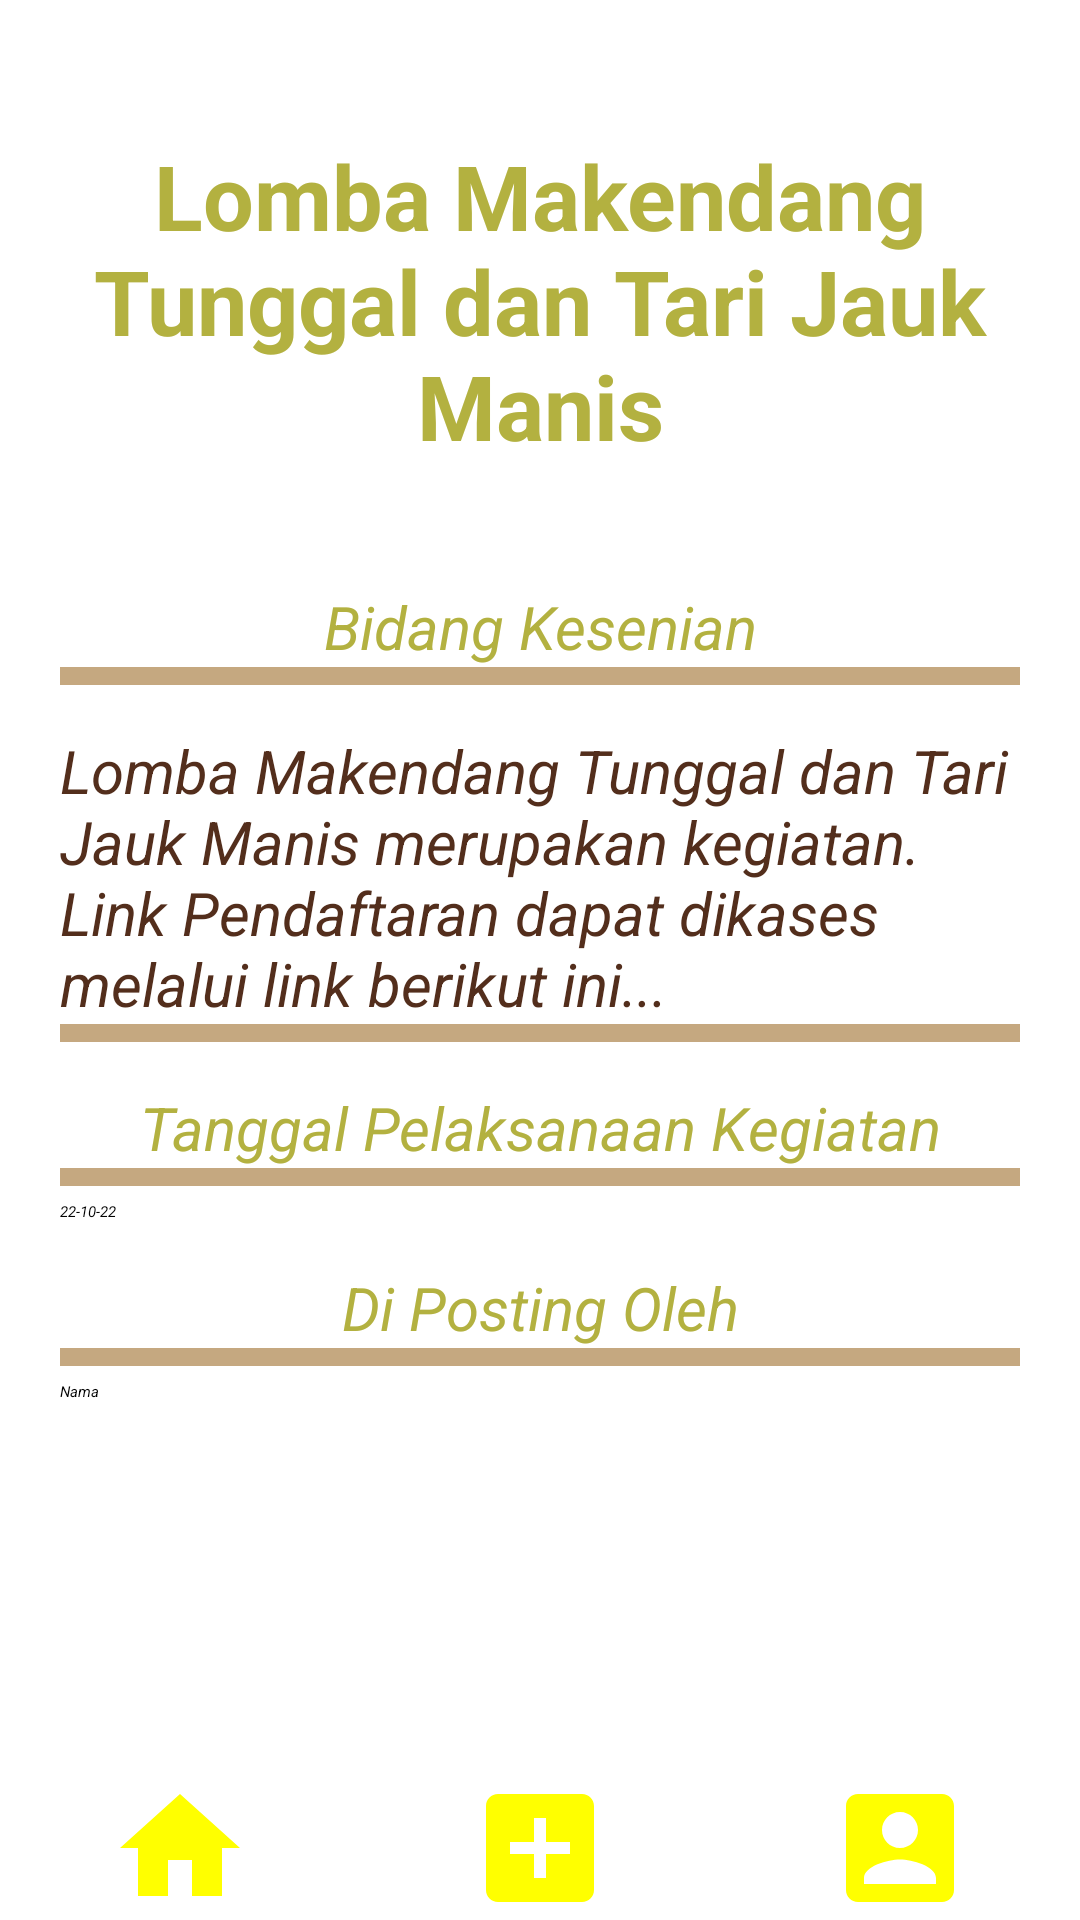

Icons on this 1080 × 1920 Android screen, each with the point to tap as point (x, y):
account: point (900, 1848)
add: point (540, 1848)
home: point (180, 1845)
